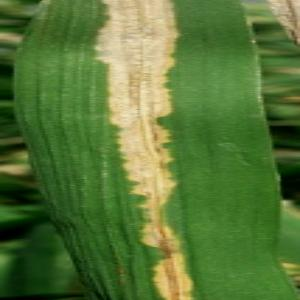2 BacterialBlight: (24, 1, 285, 300)
